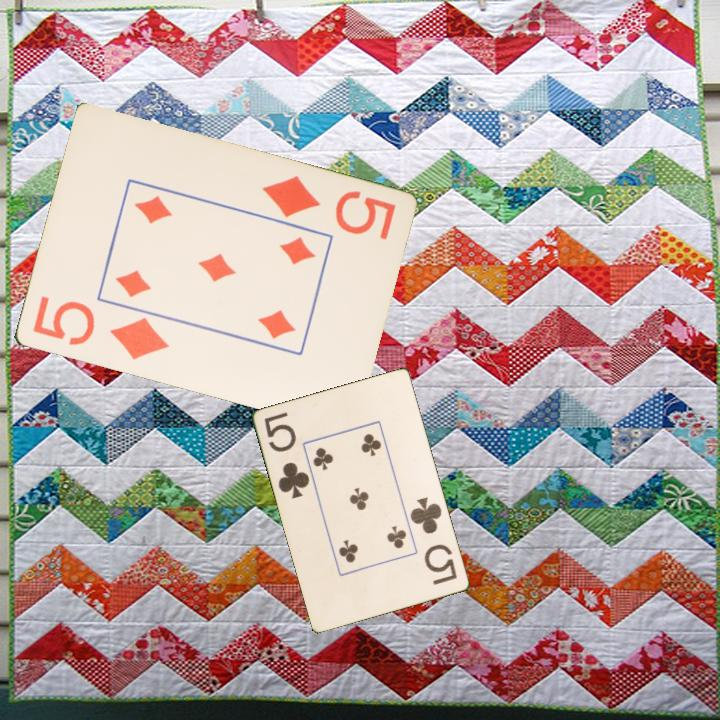5c: (407, 493, 460, 588), (261, 408, 313, 502)
5d: (28, 293, 172, 364), (258, 172, 398, 243)
